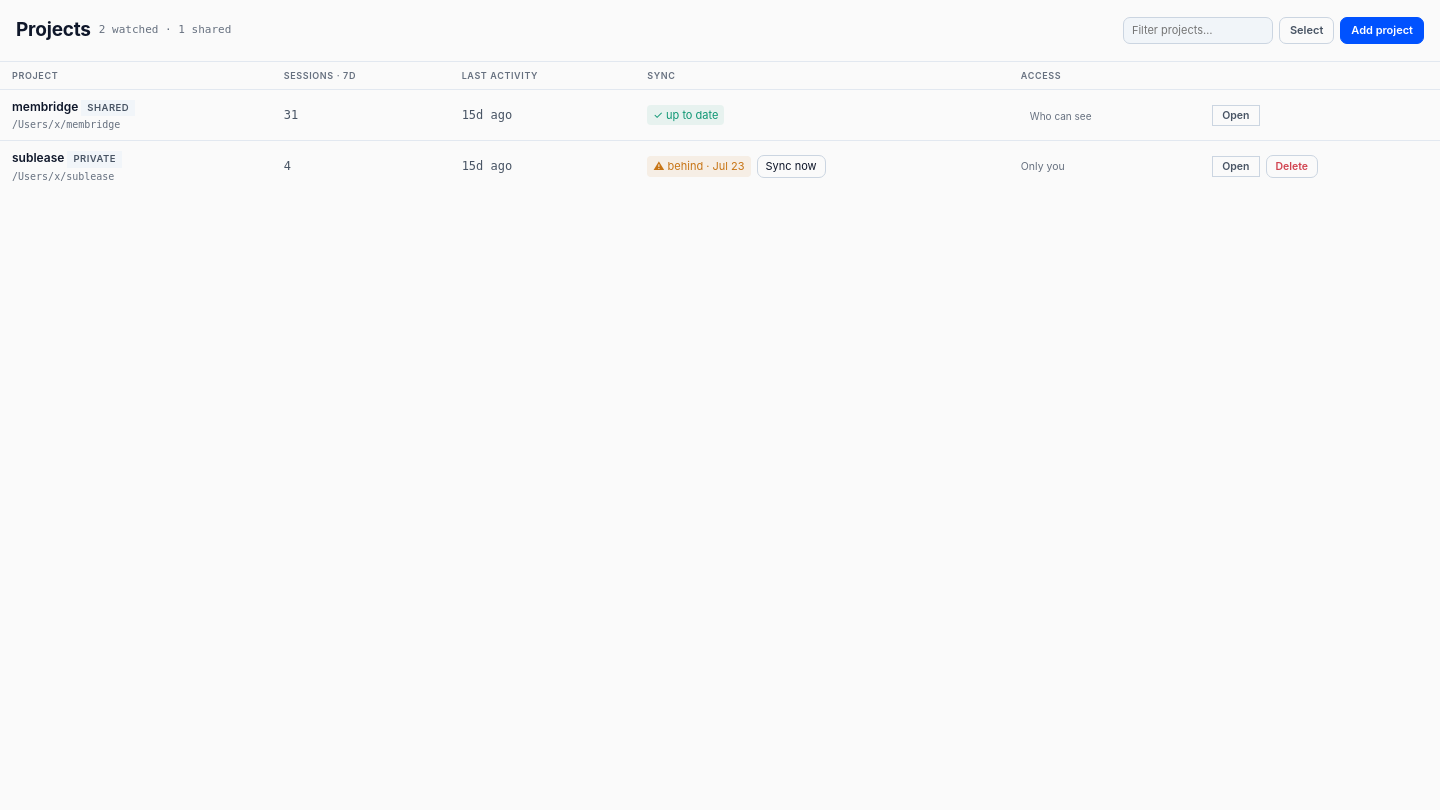
it: Access popover › tells a member who to ask instead of listing a roster it cannot verify
Click the button with aria-label "access for membridge".
click(1061, 116)  # box [1021, 106, 1100, 127]
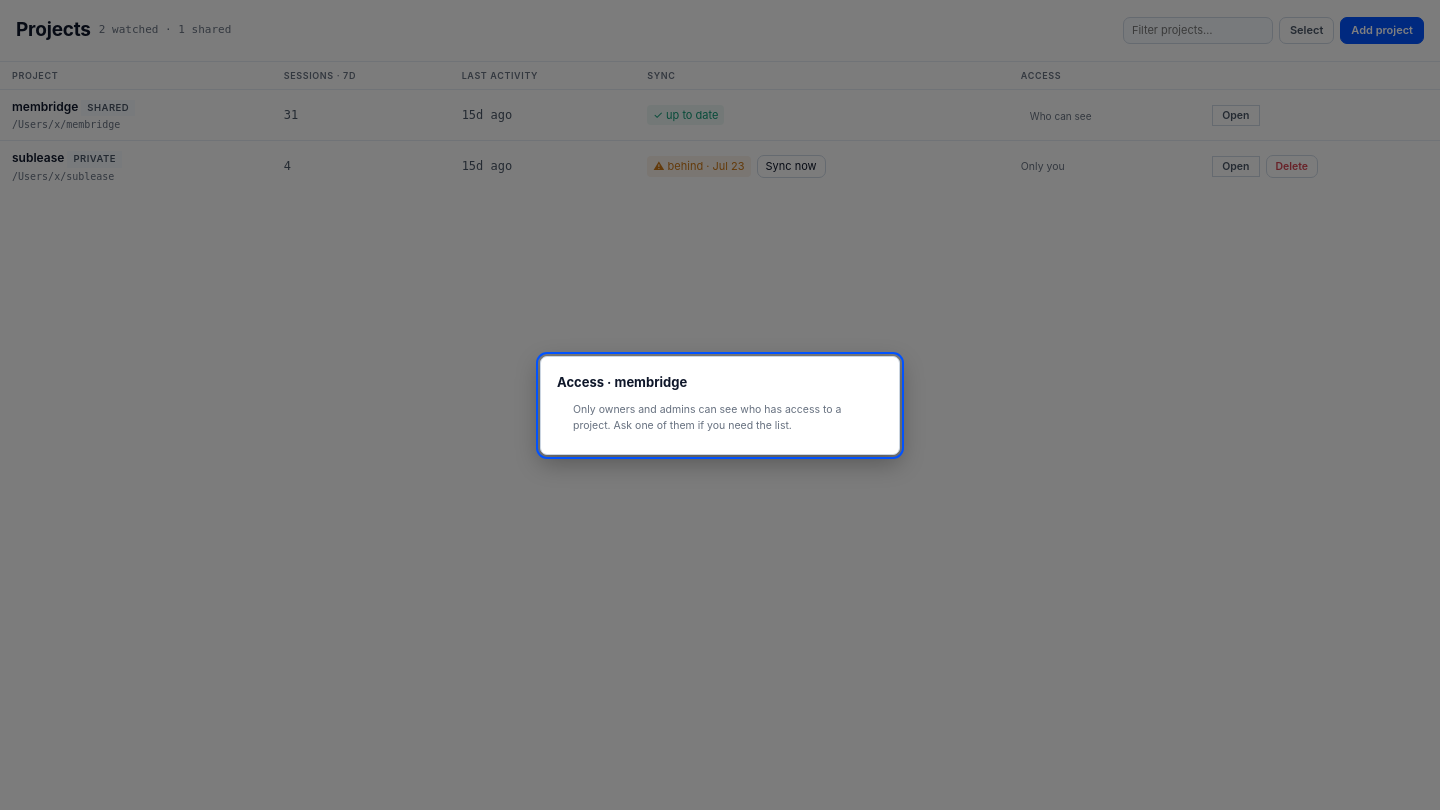
Now the text "Only owners and admins can see who has access" is shown, box [573, 403, 842, 432]
